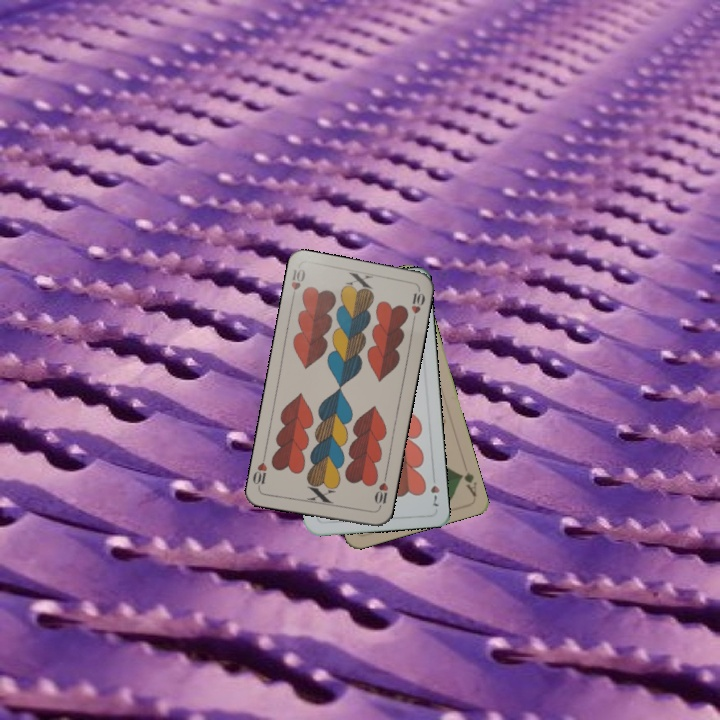GA: (455, 468, 479, 499)
H10: (370, 472, 391, 512), (287, 265, 308, 304)
H7: (426, 481, 442, 509)
